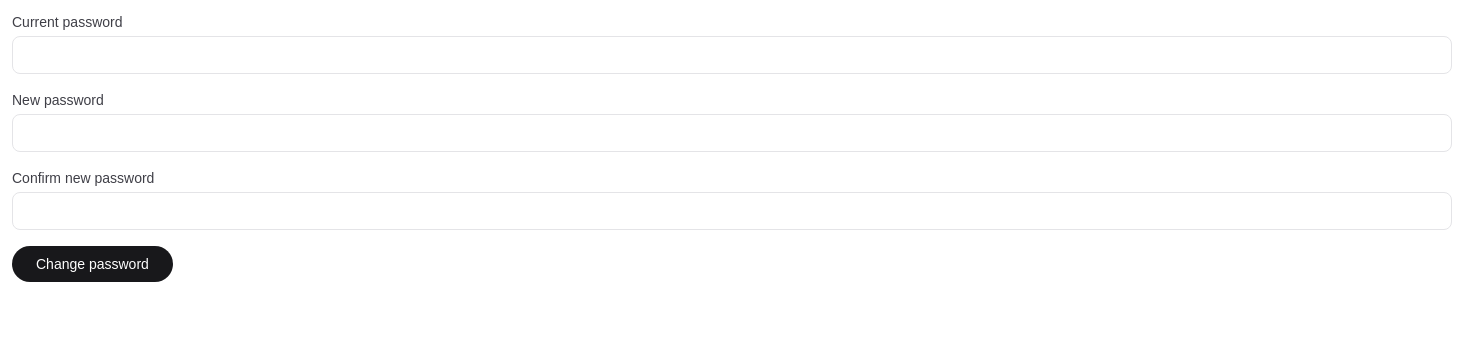
Test: ChangePasswordForm › shows the error message when changePassword rejects the request
The image size is (1464, 351).
Type "old-pw-12345" into the password field named "currentPassword" below "Current password" at (732, 55), box [12,36,1452,74]
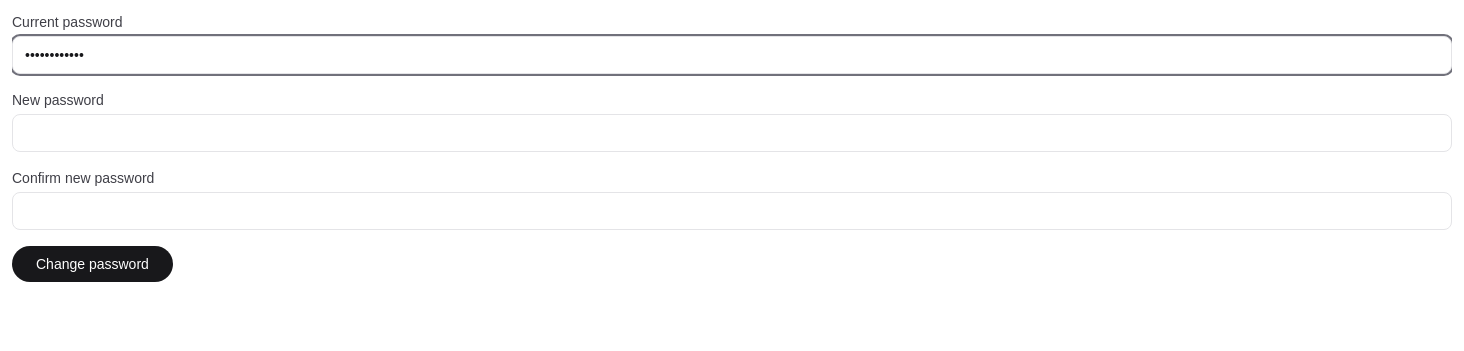
Type "new-pw-12345" into the 2nd password field named "newPassword" at (732, 133), box [12,114,1452,152]
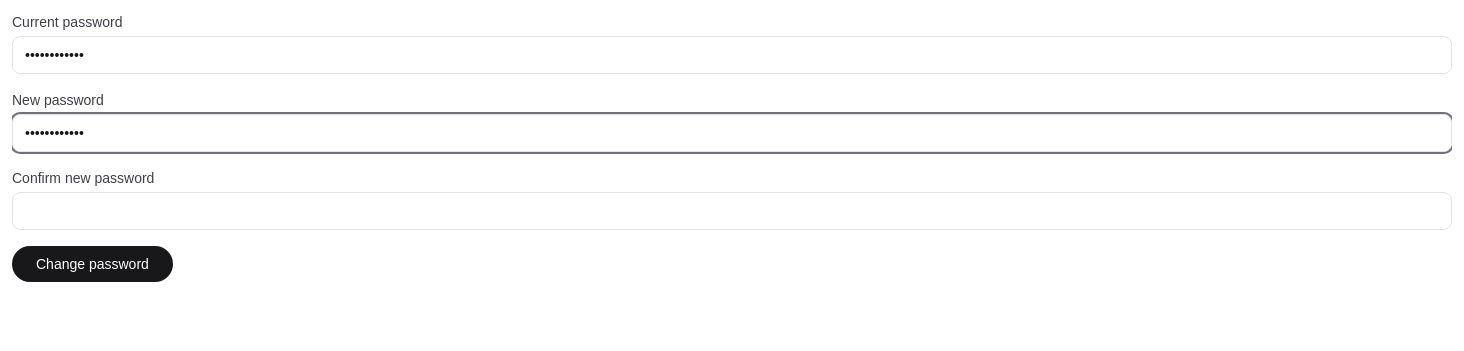
Type "new-pw-12345" into the password field named "confirmNewPassword" below "Confirm new password" at (732, 211), box [12,192,1452,230]
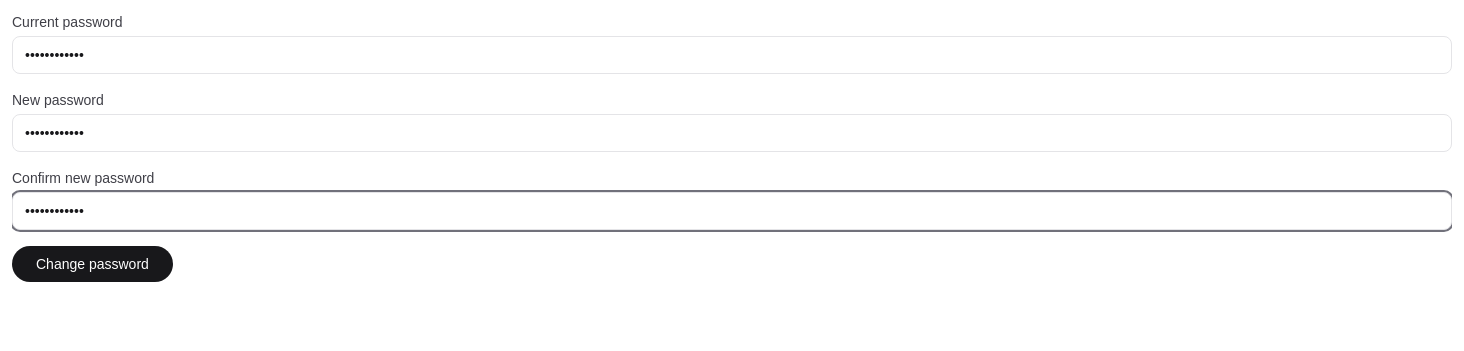
Click the button "Change password" at (92, 264), box [12,246,173,282]
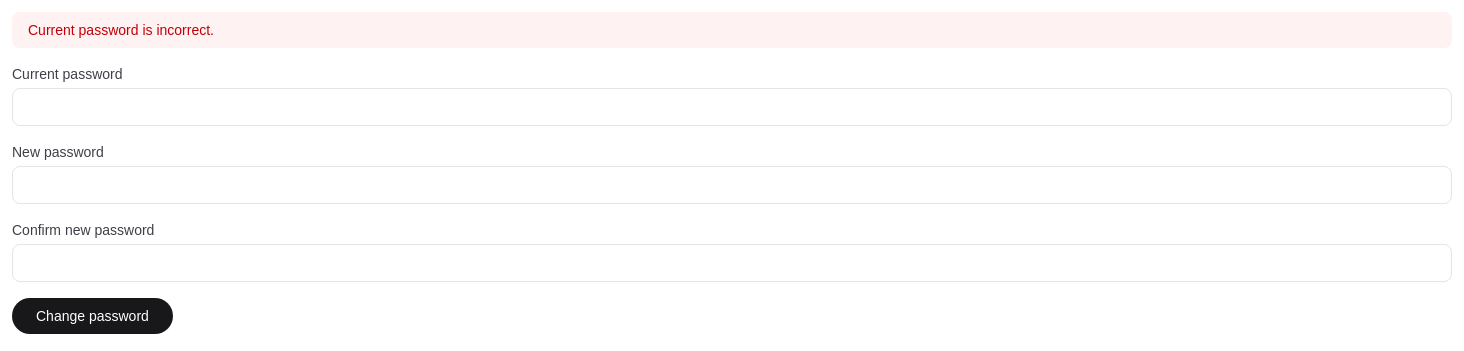
Check: the text "Current password is incorrect." is shown, box [12,12,1452,48]
